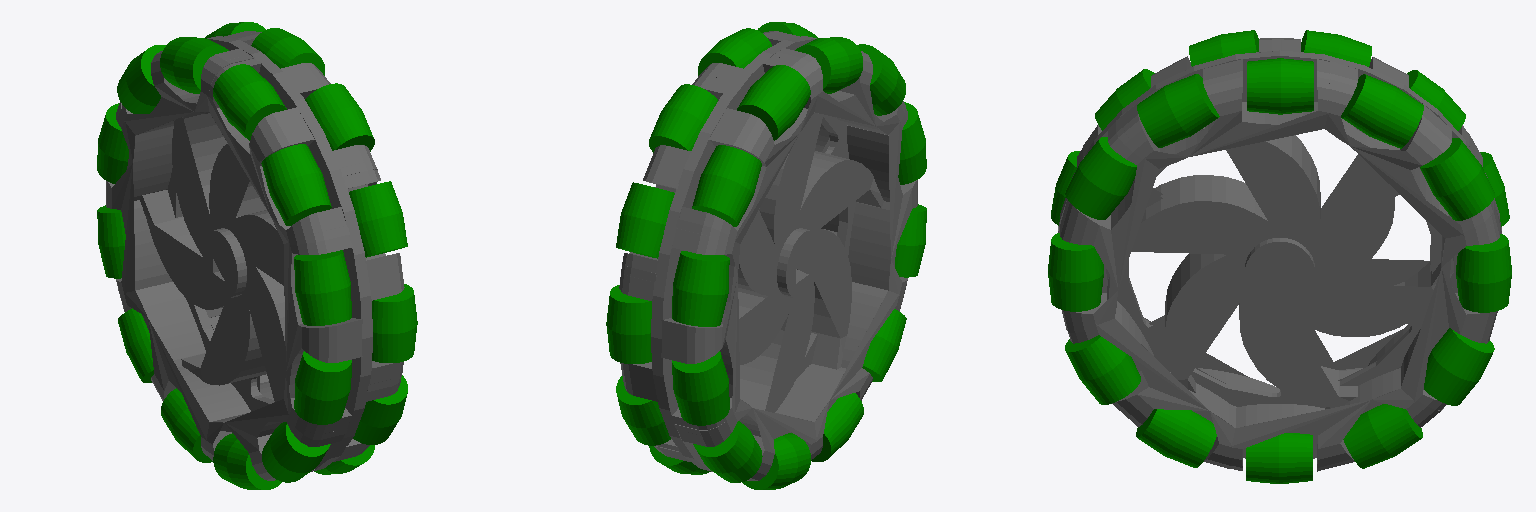
The picture shows the model from 3 angles: view 1: azimuth 30°, elevation 25°; view 2: azimuth 150°, elevation 25°; view 3: azimuth 270°, elevation 25°; orthographic projection.
Visible parts, largest first — view 1: SpokeExtender.002; view 2: SpokeExtender.002; view 3: SpokeExtender.002.
Boxes of the visible parts, box(x1,y1,x2,y2) form: SpokeExtender.002: box(97, 22, 417, 489); SpokeExtender.002: box(606, 22, 926, 489); SpokeExtender.002: box(1048, 30, 1511, 483).
Bounding box in the file's own units: 0.0294 × 0.1059 × 0.1059.
1 materials, 1 textured.